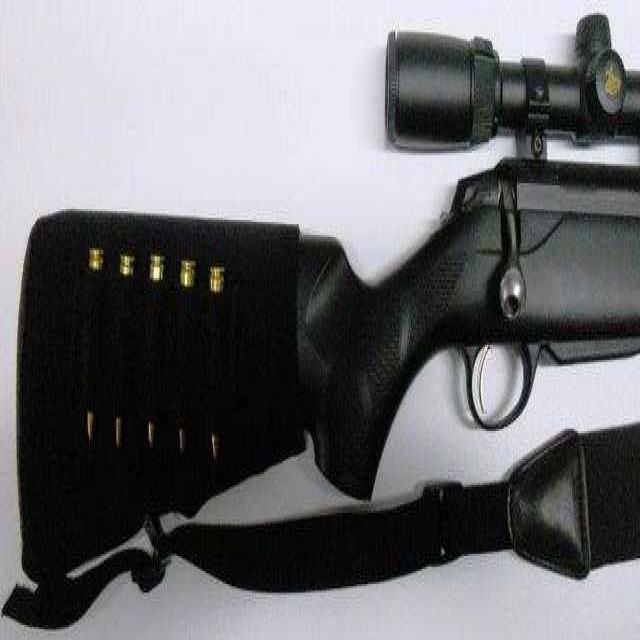weapon: (9, 12, 640, 532)
